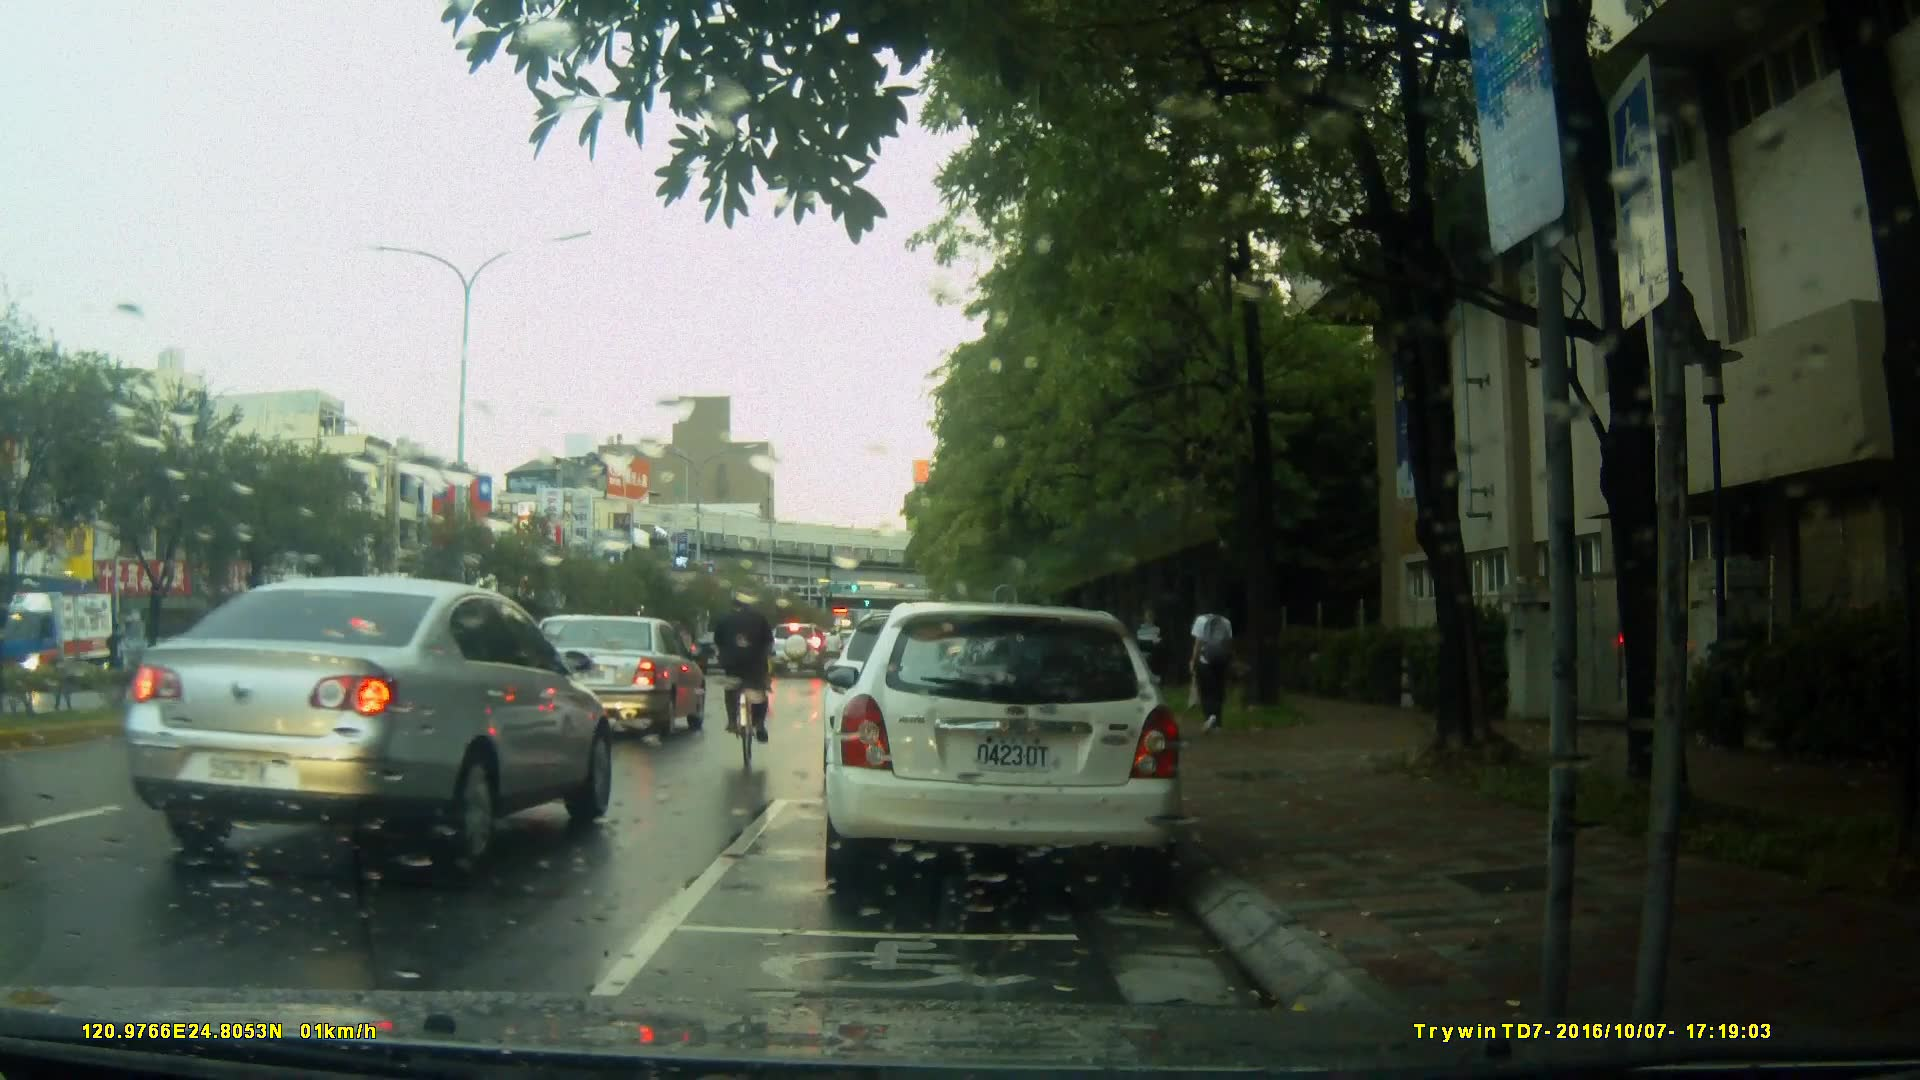pedestrian: (1180, 593, 1235, 740)
rider: (711, 593, 775, 780), (737, 611, 782, 716), (823, 625, 844, 680)
vehicle: (119, 574, 617, 872), (820, 602, 1188, 898), (521, 612, 709, 744), (1, 587, 131, 698), (134, 634, 239, 689)
